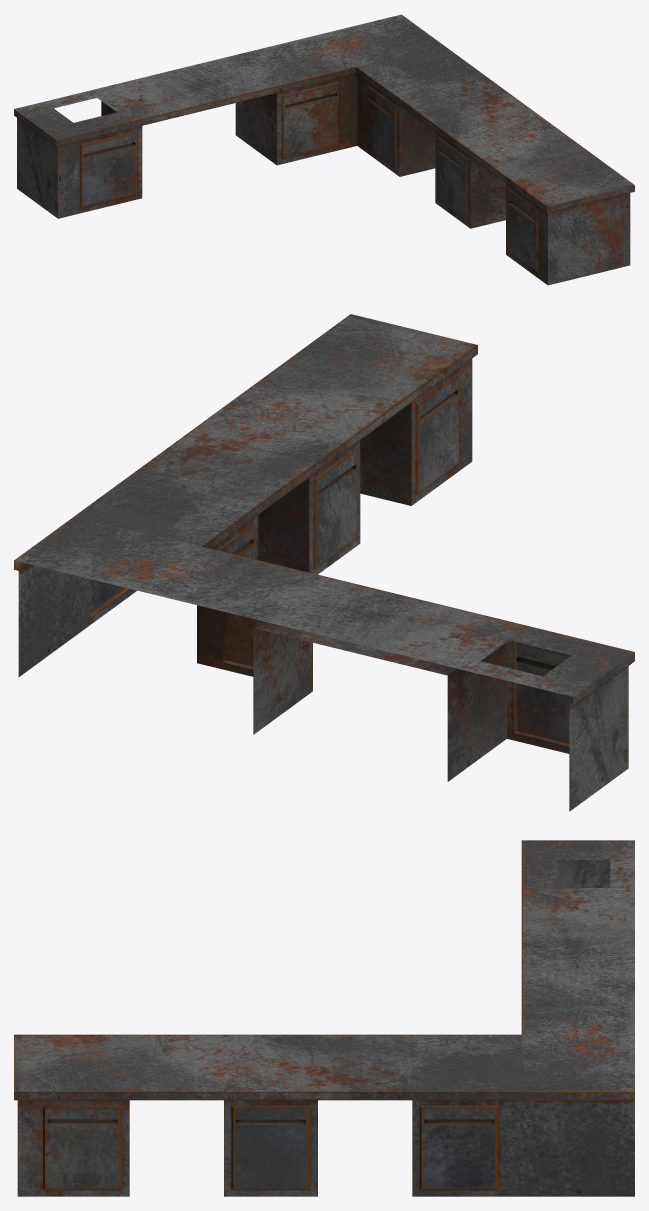
Rendered from LargeStorage.FBX.
3 renders of one model, top to bottom at view 1: azimuth 30°, elevation 25°; view 2: azimuth 150°, elevation 25°; view 3: azimuth 270°, elevation 25°, orthographic. The views are drawn at different scales.
Parts seen in each view (by area): view 1: LargeStorage; view 2: LargeStorage; view 3: LargeStorage.
Boxes of the visible parts, x1=… form: LargeStorage: x1=14, y1=14, x2=634, y2=285; LargeStorage: x1=14, y1=314, x2=634, y2=811; LargeStorage: x1=14, y1=840, x2=634, y2=1196.
Size of the model in its own units: 442 by 87.5 by 460.
